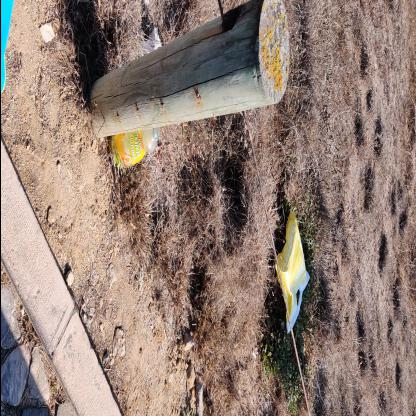plastik: (274, 209, 308, 335), (110, 124, 159, 170)
